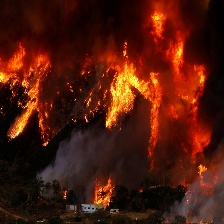fire: (91, 54, 167, 131), (1, 41, 49, 151), (184, 121, 211, 180), (188, 64, 213, 105), (90, 177, 119, 207), (151, 10, 177, 39), (167, 37, 184, 74)
smoke: (47, 141, 85, 183), (180, 192, 224, 218)
